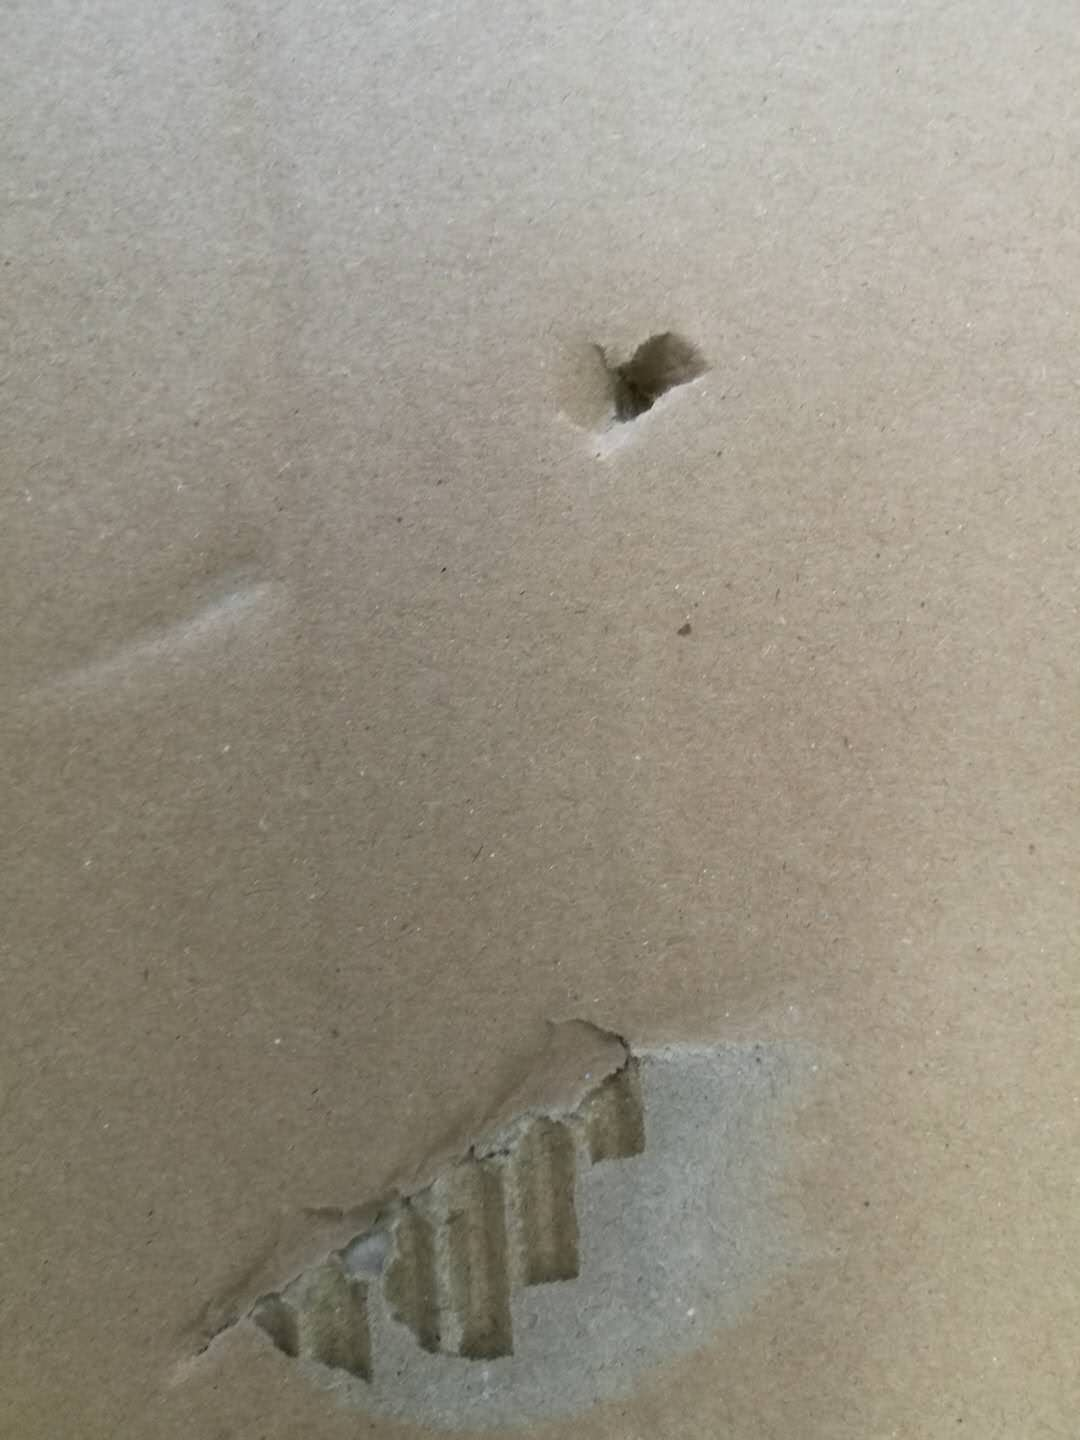defect: (140, 964, 862, 1440), (15, 518, 329, 749), (531, 293, 737, 495)
